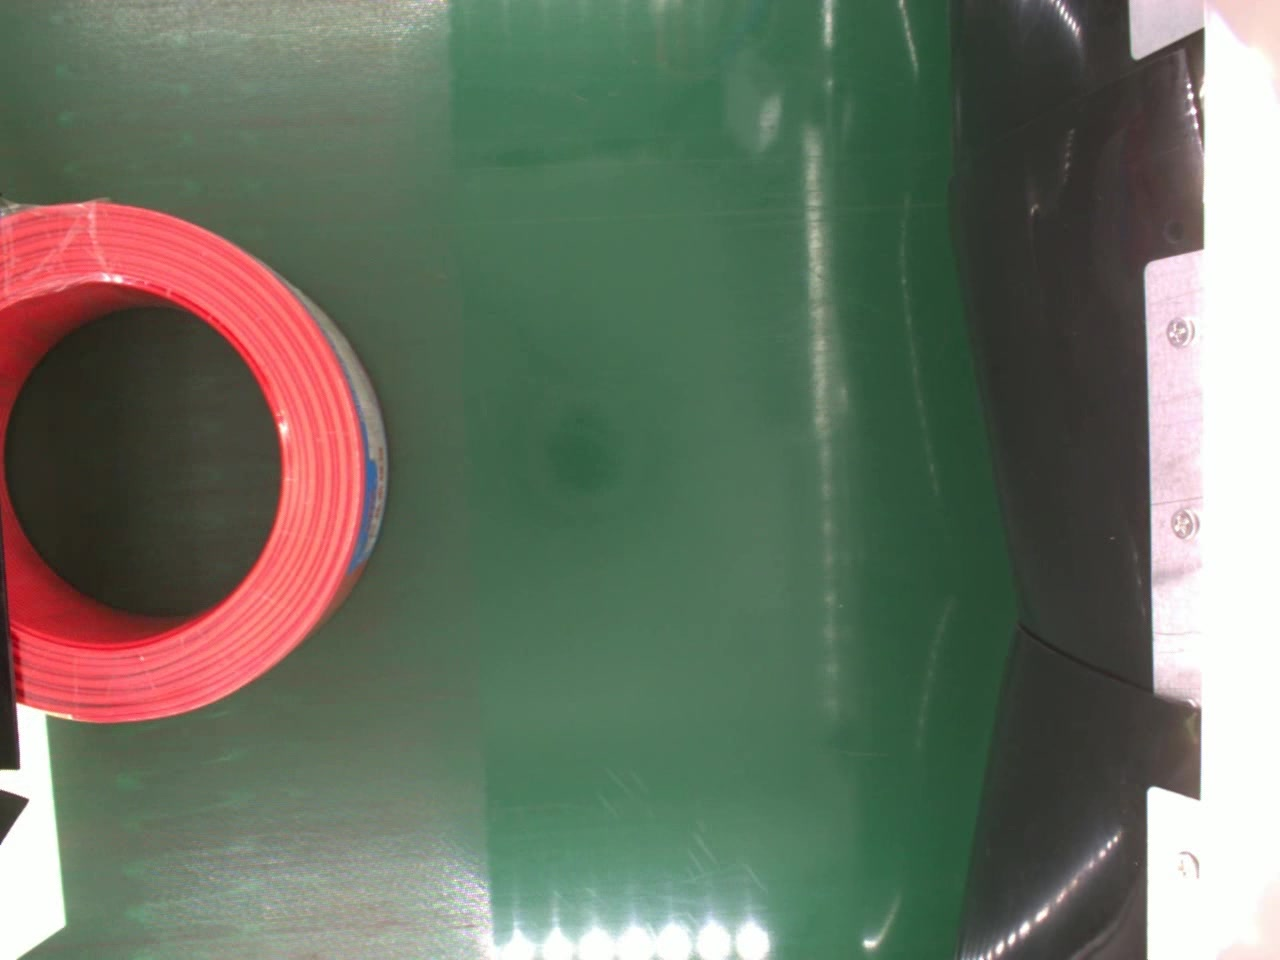red: (0, 196, 390, 730)
